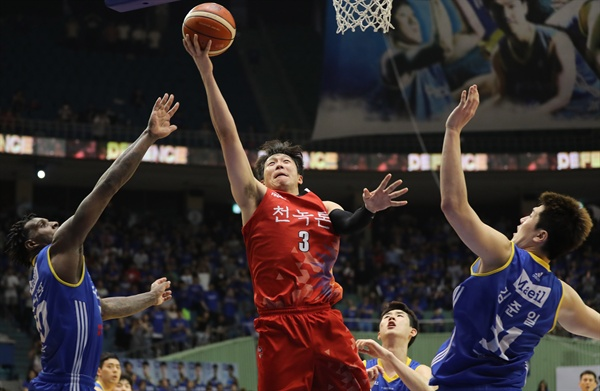ball: (181, 0, 243, 63)
defense: (8, 89, 187, 391)
shoot: (166, 2, 396, 391)
